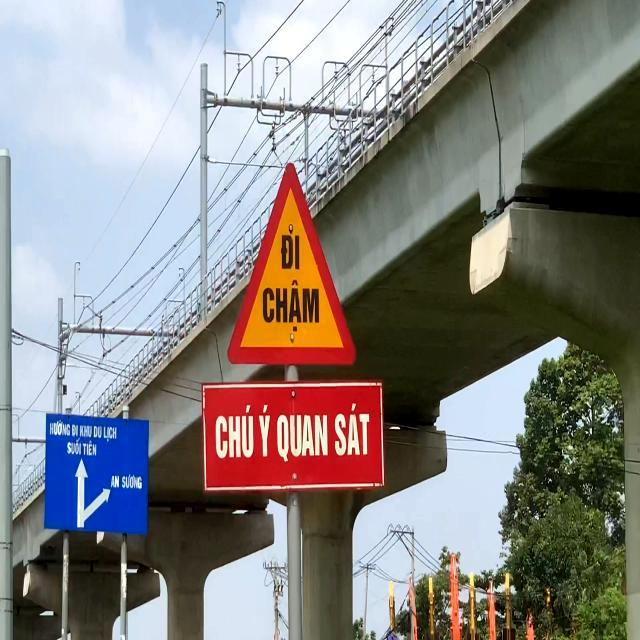Di cham: (223, 159, 361, 373)
